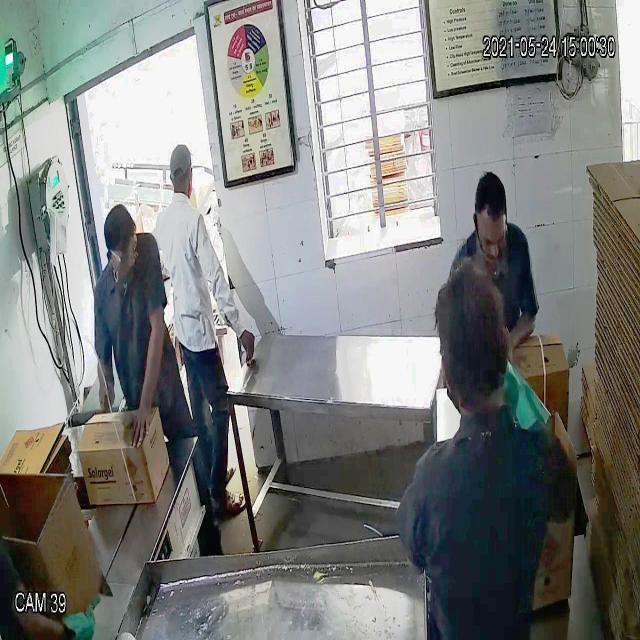glasses: (104, 234, 140, 269)
